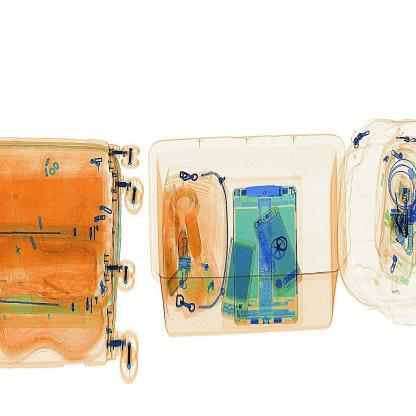wrench: (236, 178, 300, 206)
